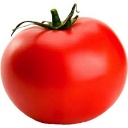tomato: (1, 19, 128, 126)
